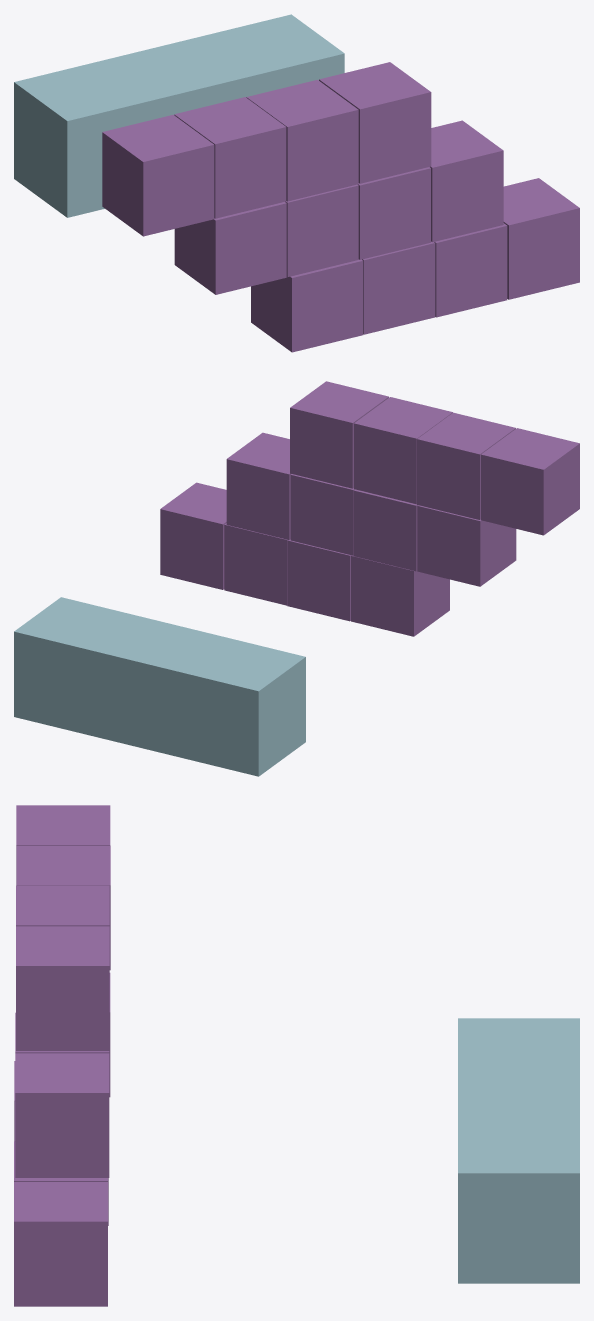
3 views of the same model, one above another, from view 1: azimuth 30°, elevation 25°; view 2: azimuth 150°, elevation 25°; view 3: azimuth 270°, elevation 25° (orthographic). The views are drawn at different scales.
Visible parts, largest first — view 1: Mesh_Mesh_head_geo.001_lambert2SG.001; view 2: Mesh_Mesh_head_geo.001_lambert2SG.001; view 3: Mesh_Mesh_head_geo.001_lambert2SG.001.
Part boxes in pixels (<box>): Mesh_Mesh_head_geo.001_lambert2SG.001: <box>14,14,579,352</box>; Mesh_Mesh_head_geo.001_lambert2SG.001: <box>14,381,579,776</box>; Mesh_Mesh_head_geo.001_lambert2SG.001: <box>14,805,579,1306</box>.
Bounding box in the file's own units: 0.1225 × 0.0607 × 0.1206.
